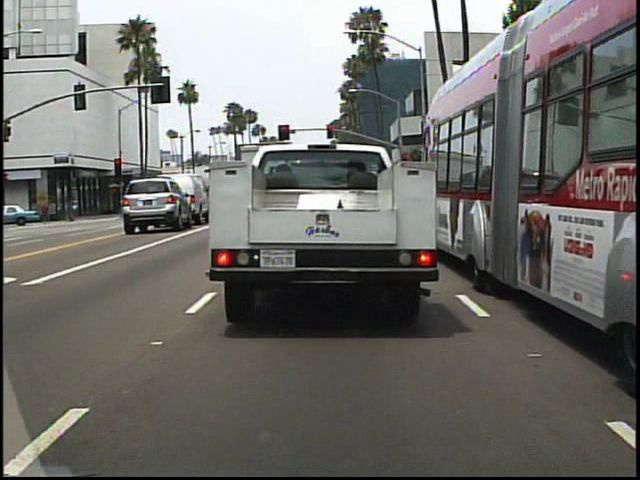person: (40, 194, 46, 226)
